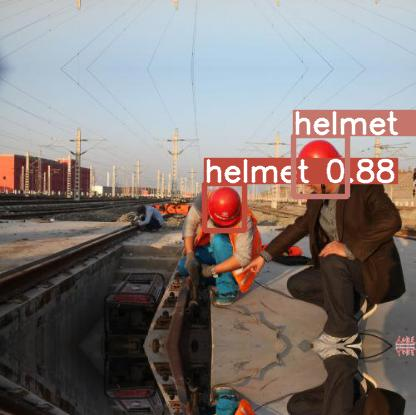helmet: (293, 135, 347, 196), (204, 183, 244, 230)
